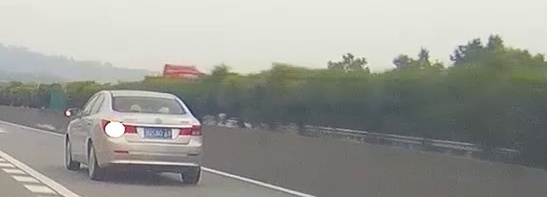L_light: (102, 119, 137, 134)
R_light: (178, 124, 203, 136)
T_light: (139, 97, 154, 100)
day-left: (99, 90, 203, 185)
